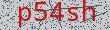4: (49, 1, 66, 27)
5: (32, 1, 49, 27)
h: (81, 1, 100, 25)
p: (12, 4, 33, 29)
s: (65, 7, 79, 28)
